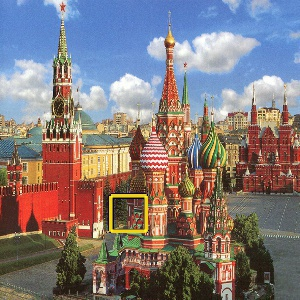square: (107, 192, 150, 235)
